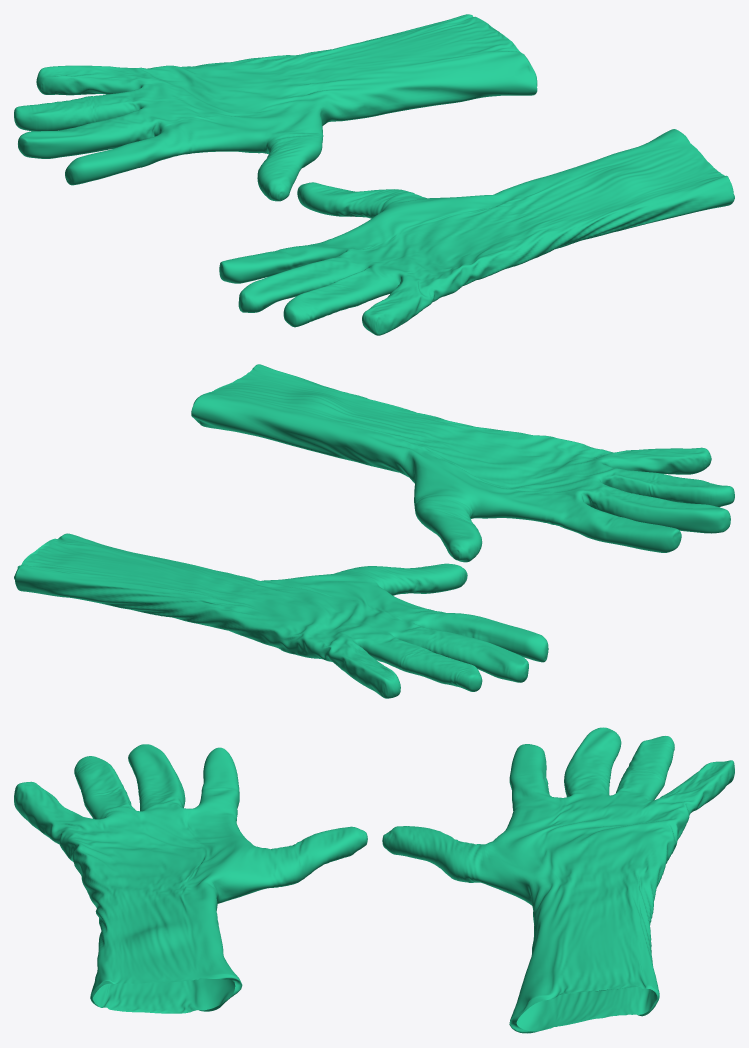
Rendered from glove.fbx.
3 renders of one model, top to bottom at view 1: azimuth 30°, elevation 25°; view 2: azimuth 150°, elevation 25°; view 3: azimuth 270°, elevation 25°, orthographic. The views are drawn at different scales.
Visible parts, largest first — view 1: RightGlove, LeftGlove; view 2: LeftGlove, RightGlove; view 3: RightGlove, LeftGlove.
Boxes of the visible parts, box(x1,y1,x2,y2) form: RightGlove: box(14, 14, 537, 201); LeftGlove: box(219, 129, 734, 335); LeftGlove: box(191, 364, 734, 562); RightGlove: box(14, 533, 548, 698); RightGlove: box(382, 727, 734, 1033); LeftGlove: box(14, 744, 367, 1013).
Bounding box in the file's own units: 512 × 59.36 × 586.
